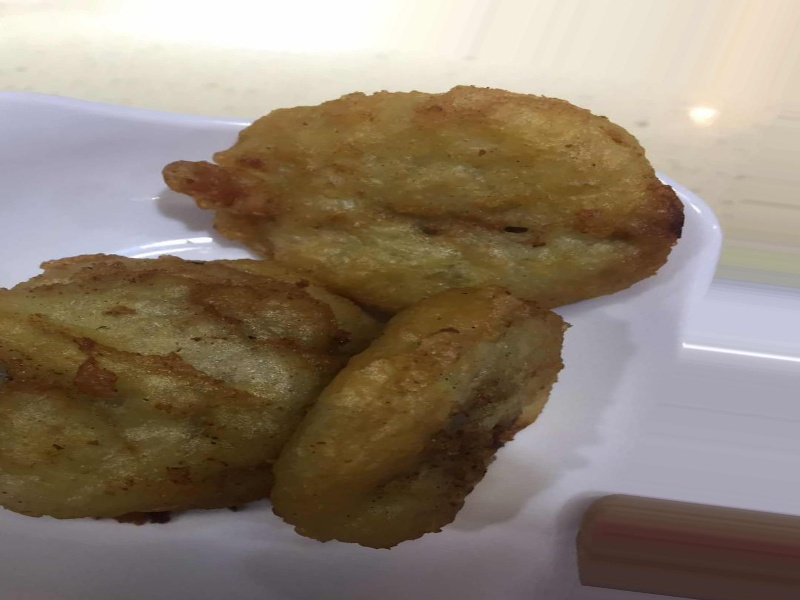patato: (3, 87, 686, 549)
